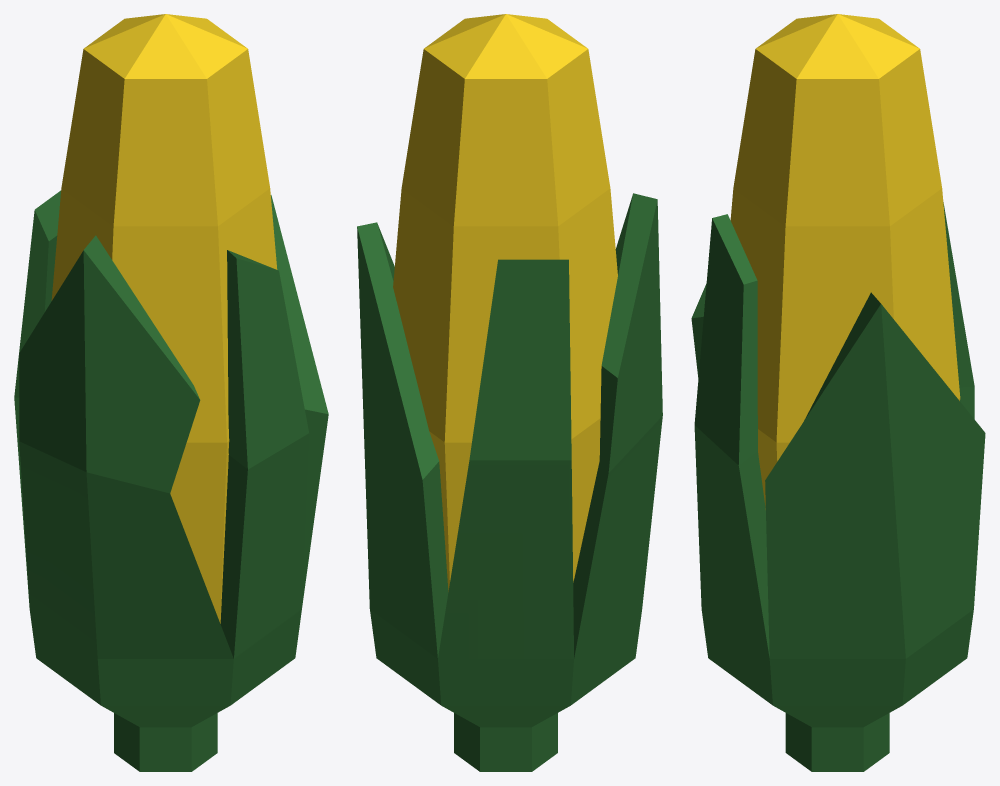
File: food_corn.fbx
3 views of the same model, side by side, from view 1: azimuth 30°, elevation 25°; view 2: azimuth 150°, elevation 25°; view 3: azimuth 270°, elevation 25° (orthographic).
Parts seen in each view (by area): view 1: food_corn; view 2: food_corn; view 3: food_corn.
Boxes of the visible parts, x1,y1,x2,y2 form: food_corn: (14,14,328,771); food_corn: (357,14,662,771); food_corn: (691,14,985,771).
Size of the model in its own units: 71.38 by 200 by 70.91.
